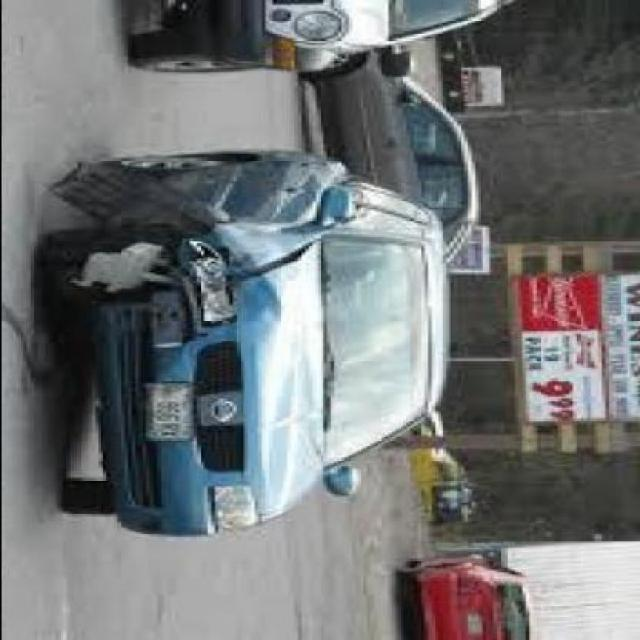damage: (45, 167, 308, 339)
